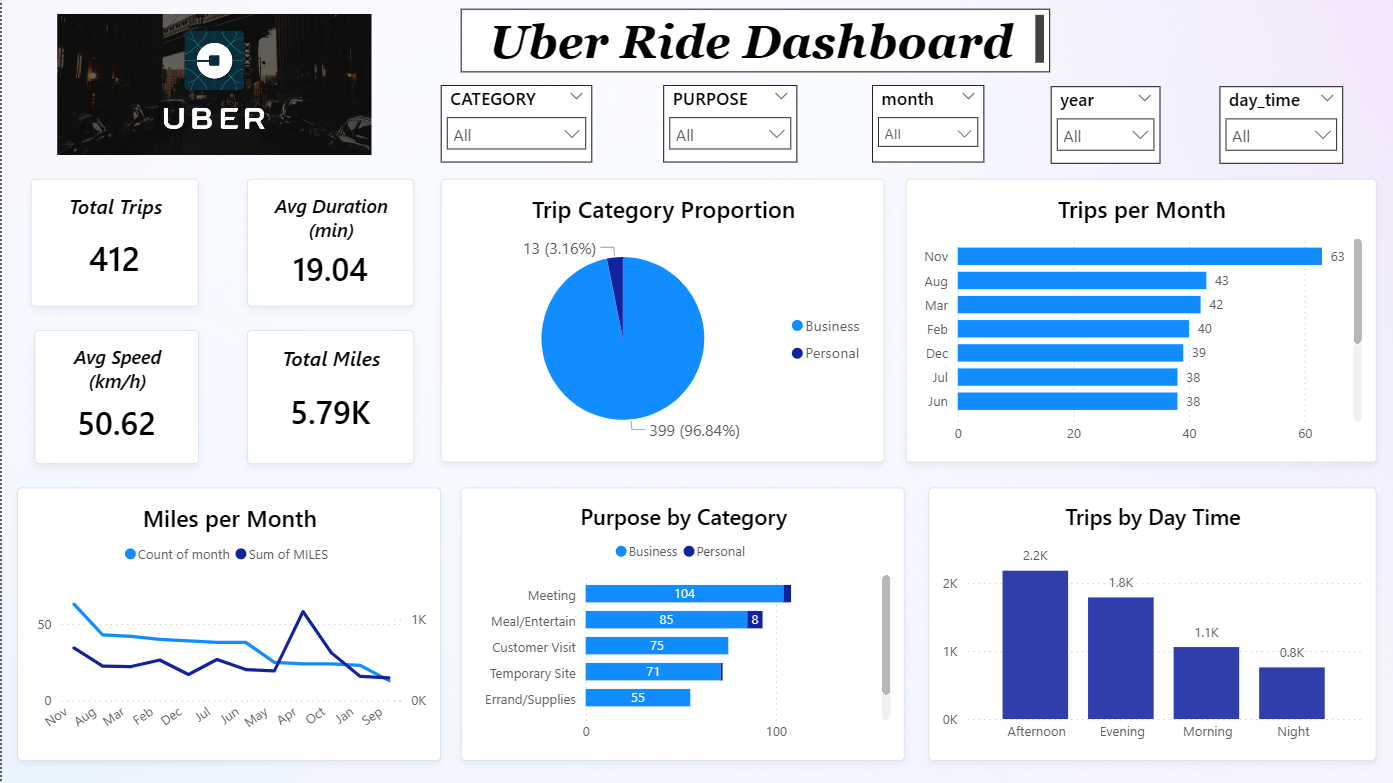

This screenshot's page, from the dashboard's own definition file:
{"tool":"powerbi","page":{"name":"Page 1","canvas":[1280,720],"ordinal":0},"visuals":[{"type":"image","box":[46.5,8.1,298.8,139.5],"z":0},{"type":"textbox","box":[422.1,8.1,541.9,58.1],"z":1000},{"type":"pieChart","title":"Trip Category Proportion","fields":{"Y":["CountNonNull(NewUberCleanData.CATEGORY)"],"Category":["NewUberCleanData.CATEGORY"]},"box":[403.5,164,408.1,260.5],"z":2000},{"type":"clusteredBarChart","title":"Trips per Month","fields":{"Category":["NewUberCleanData.month"],"Y":["CountNonNull(NewUberCleanData.start_date)"]},"box":[830.2,164,432.6,260.5],"z":3000},{"type":"lineChart","title":"Miles per Month","fields":{"Category":["NewUberCleanData.month"],"Y":["CountNonNull(NewUberCleanData.month)"],"Y2":["Sum(NewUberCleanData.MILES)"]},"box":[14,447.7,389.5,251.2],"z":4000},{"type":"barChart","title":"Purpose by Category ","fields":{"Category":["NewUberCleanData.PURPOSE"],"Series":["NewUberCleanData.CATEGORY"],"Y":["CountNonNull(NewUberCleanData.PURPOSE)"]},"box":[422.1,447.7,408.1,251.2],"z":5000},{"type":"clusteredColumnChart","title":"Trips by Day Time","fields":{"Category":["NewUberCleanData.day_time"],"Y":["Sum(NewUberCleanData.MILES)"]},"box":[851.2,447.7,411.6,251.2],"z":6000},{"type":"card","title":"Total Trips","fields":{"Values":["CountNonNull(NewUberCleanData.start_date)"]},"box":[26.7,164,154.7,117.4],"z":7000},{"type":"card","title":"Avg Duration (min)","fields":{"Values":["Avg(NewUberCleanData.duration)"]},"box":[225.6,164,153.5,117.4],"z":8000},{"type":"card","title":"Avg Speed (km/h)","fields":{"Values":["Avg(NewUberCleanData.speed)"]},"box":[30.2,303.5,151.2,123.3],"z":9000},{"type":"card","title":"Total Miles","fields":{"Values":["Sum(NewUberCleanData.MILES)"]},"box":[225.6,303.5,153.5,123.3],"z":10000},{"type":"slicer","fields":{"Values":["NewUberCleanData.CATEGORY"]},"box":[403.5,78.1,139.5,70.9],"z":11000},{"type":"slicer","fields":{"Values":["NewUberCleanData.PURPOSE"]},"box":[608.1,78.1,123.3,70.9],"z":12000},{"type":"slicer","fields":{"Values":["NewUberCleanData.month"]},"box":[800,78.1,103.5,70.9],"z":13000},{"type":"slicer","fields":{"Values":["NewUberCleanData.year"]},"box":[964,79.2,101.2,70.9],"z":14000},{"type":"slicer","fields":{"Values":["NewUberCleanData.day_time"]},"box":[1118.6,79.2,114,70.9],"z":15000}]}

Visuals, with their boxes in screenshot pixels (x1, y1, x2, y2), scaled from the page's 1280x720 canvas onto the 1393x783 screenshot:
image: box(51, 9, 376, 161)
textbox: box(459, 9, 1049, 72)
"Trip Category Proportion" pieChart: box(439, 178, 883, 462)
"Trips per Month" clusteredBarChart: box(903, 178, 1374, 462)
"Miles per Month" lineChart: box(15, 487, 439, 760)
"Purpose by Category " barChart: box(459, 487, 903, 760)
"Trips by Day Time" clusteredColumnChart: box(926, 487, 1374, 760)
"Total Trips" card: box(29, 178, 197, 306)
"Avg Duration (min)" card: box(246, 178, 413, 306)
"Avg Speed (km/h)" card: box(33, 330, 197, 464)
"Total Miles" card: box(246, 330, 413, 464)
slicer - NewUberCleanData.CATEGORY: box(439, 85, 591, 162)
slicer - NewUberCleanData.PURPOSE: box(662, 85, 796, 162)
slicer - NewUberCleanData.month: box(871, 85, 983, 162)
slicer - NewUberCleanData.year: box(1049, 86, 1159, 163)
slicer - NewUberCleanData.day_time: box(1217, 86, 1341, 163)
